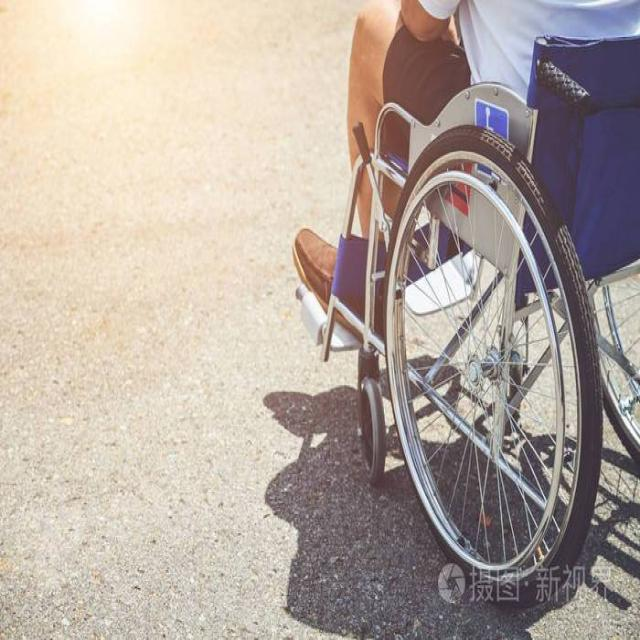wheelchairs: (287, 38, 640, 607)
